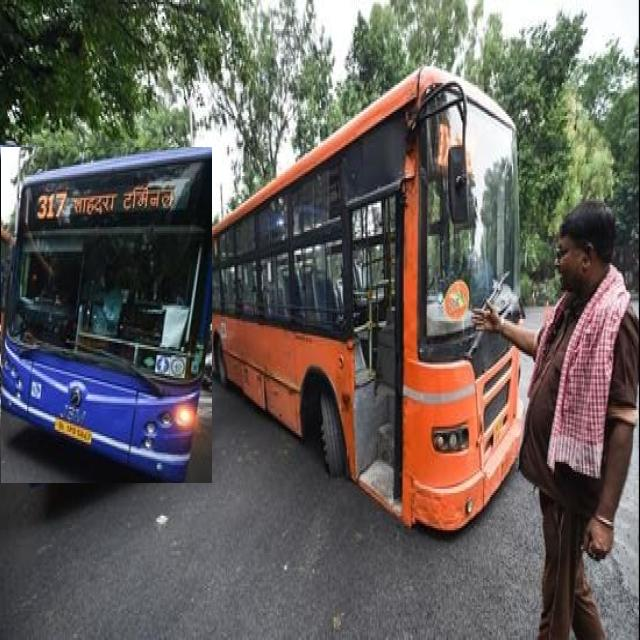bus: (201, 67, 520, 531), (1, 148, 211, 483)
